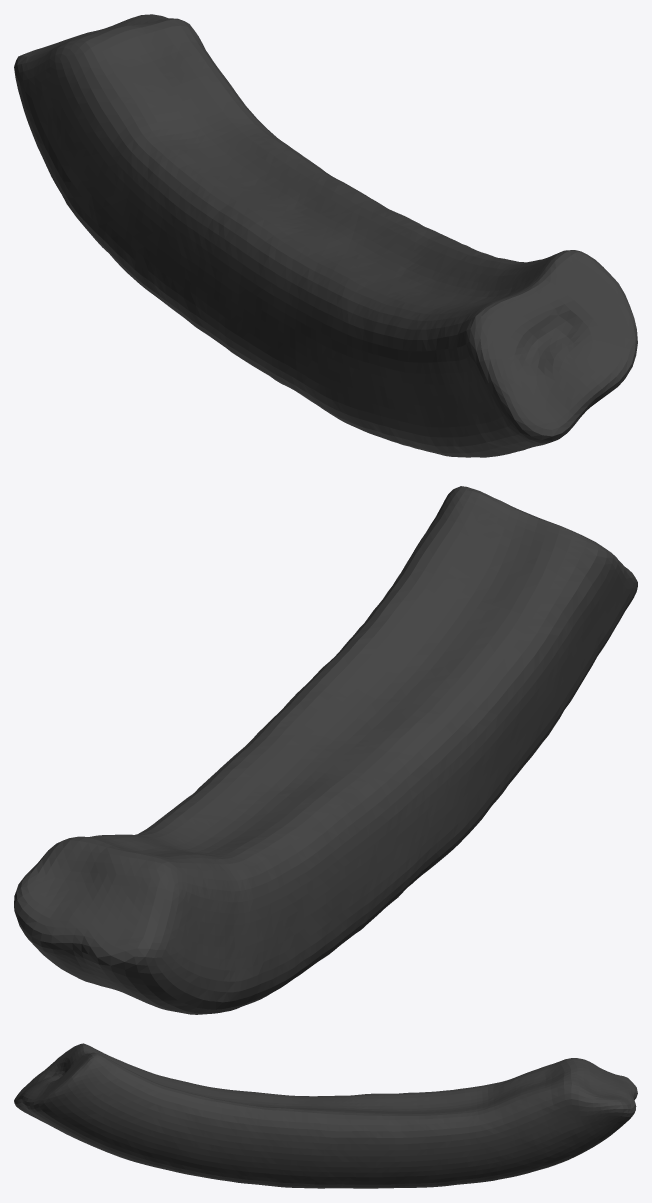
The model's file is tooth_rabbit_102_low.glb.
3 renders of one model, top to bottom at view 1: azimuth 30°, elevation 25°; view 2: azimuth 150°, elevation 25°; view 3: azimuth 270°, elevation 25°, orthographic. The views are drawn at different scales.
Parts seen in each view (by area): view 1: tooth_rabbit_102_low; view 2: tooth_rabbit_102_low; view 3: tooth_rabbit_102_low.
Boxes of the visible parts, x1,y1,x2,y2 form: tooth_rabbit_102_low: (14, 14, 637, 457); tooth_rabbit_102_low: (14, 486, 637, 1014); tooth_rabbit_102_low: (14, 1043, 637, 1188).
Bounding box in the file's own units: 0.1453 × 0.1968 × 0.7449.
Materials: 1 (1 with a texture image).
